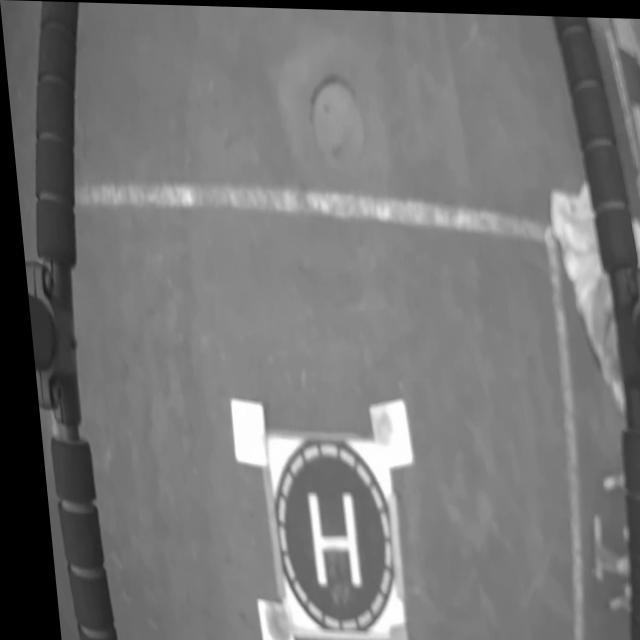Helipad: (297, 491, 350, 586)
